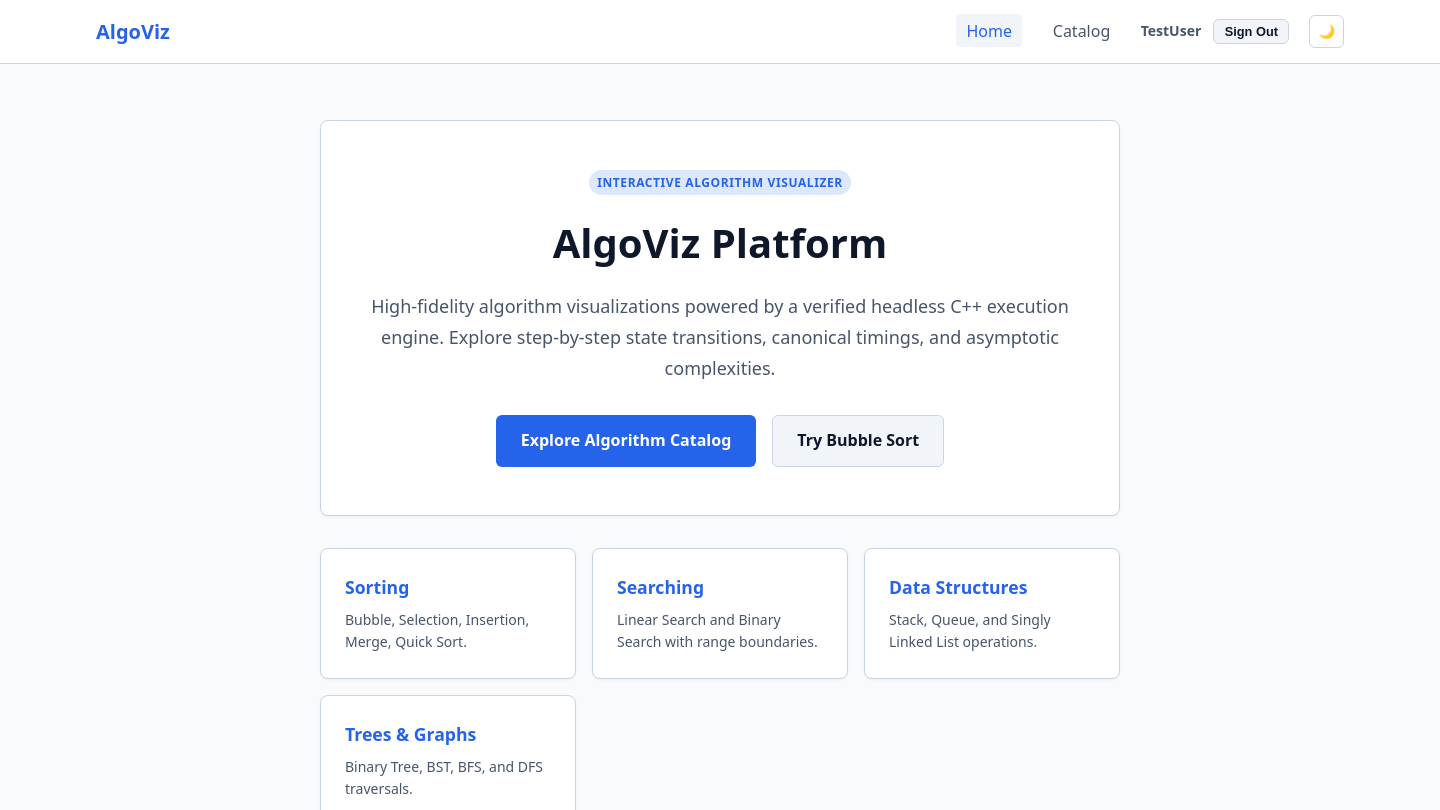
Frontend User Authentication System Tests › 8. Sign Out action clears user session in Header and shows Login button
Check: the text "TestUser" is shown, box [1141, 20, 1201, 43]
Click the button "Sign Out".
click(1251, 32)  # box [1213, 19, 1289, 44]
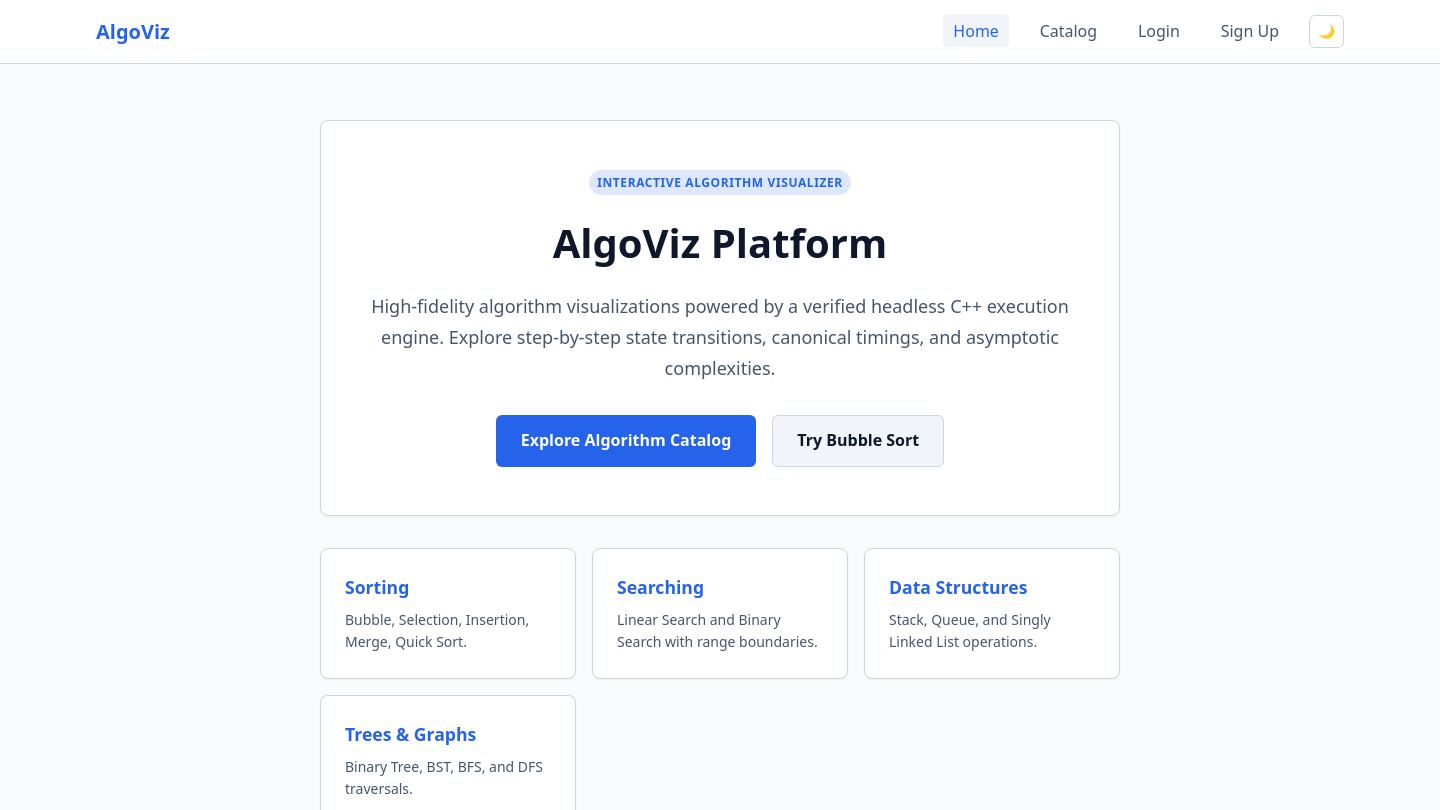
Check: the text "TestUser" is gone
Check: the link "Login" is shown, box [1138, 20, 1180, 42]
